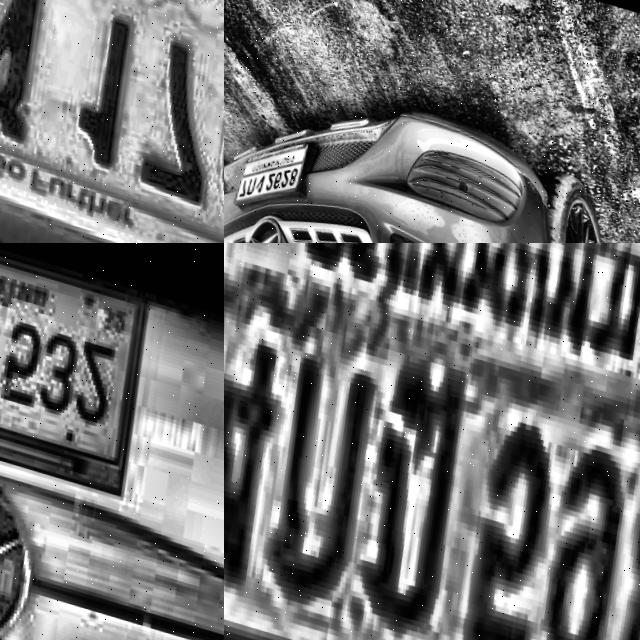license-plate: (224, 243, 640, 640), (0, 0, 224, 243), (0, 243, 157, 479), (224, 106, 324, 228)
